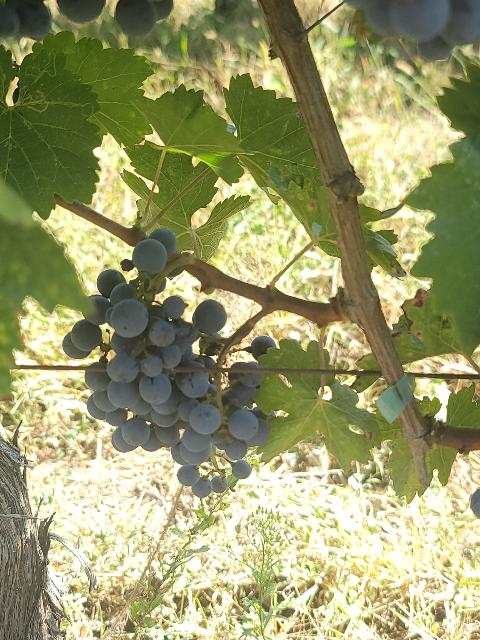grapes: (63, 229, 198, 451), (171, 371, 270, 498)
